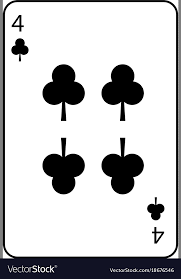four of clubs: (5, 1, 178, 255)
